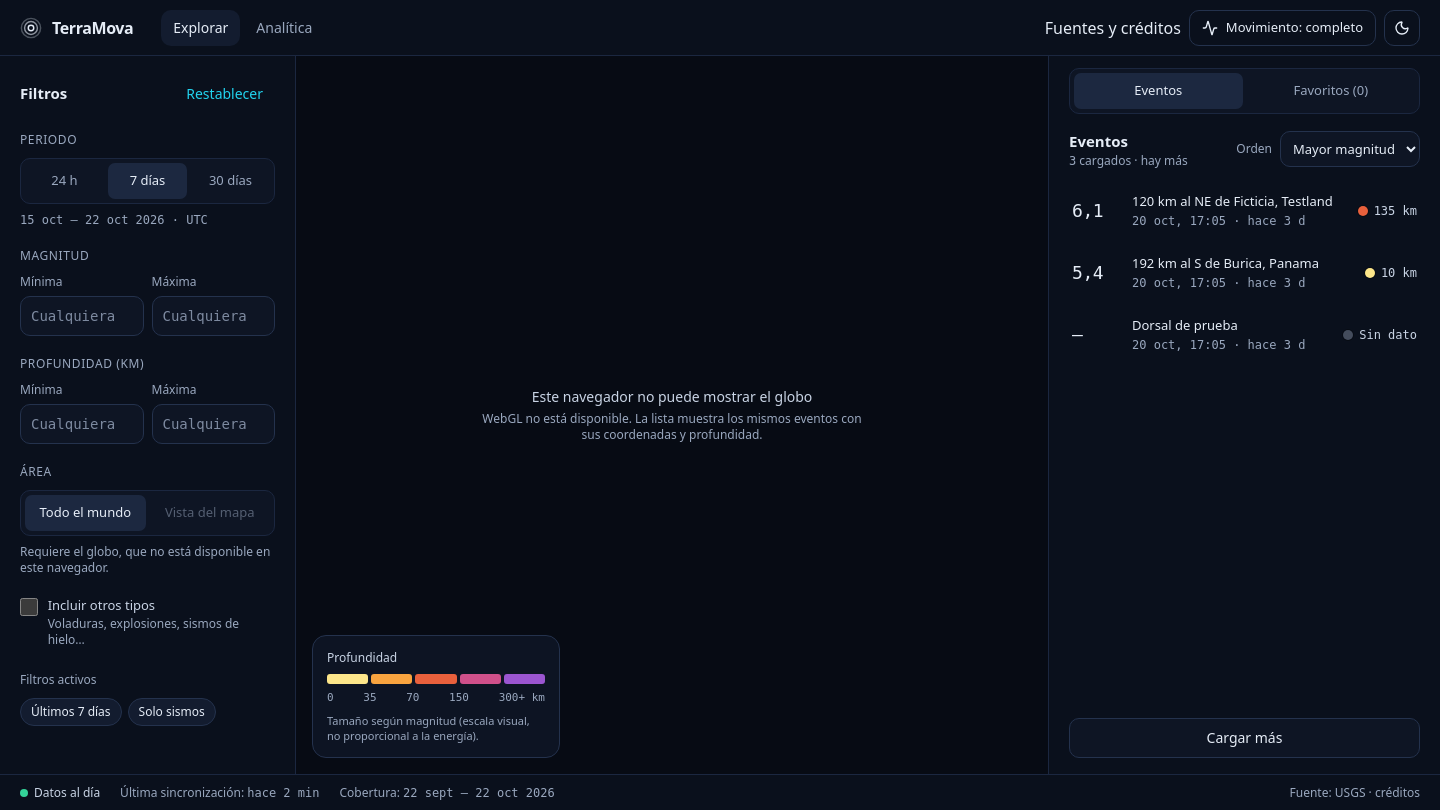
Explorar › los filtros actualizan la URL y la consulta
expect the text "6,1" is shown: met, box [1072,200,1103,220]
Click the button "24 h": [64, 181] box [25,163,104,199]
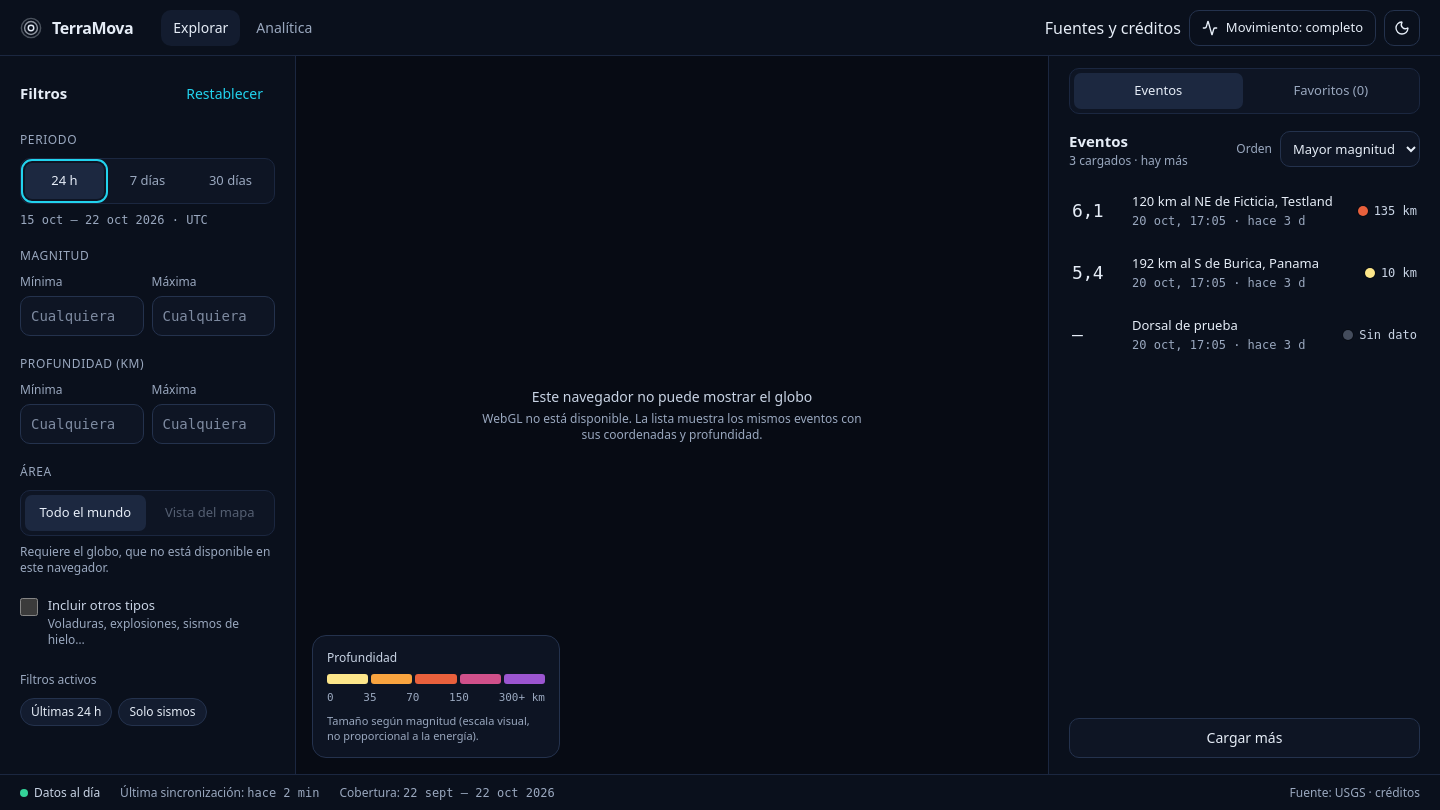
Click the checkbox labelled "Incluir otros tipos Voladuras, explosiones, sismos de hielo…": [29, 607] box [20,598,38,616]
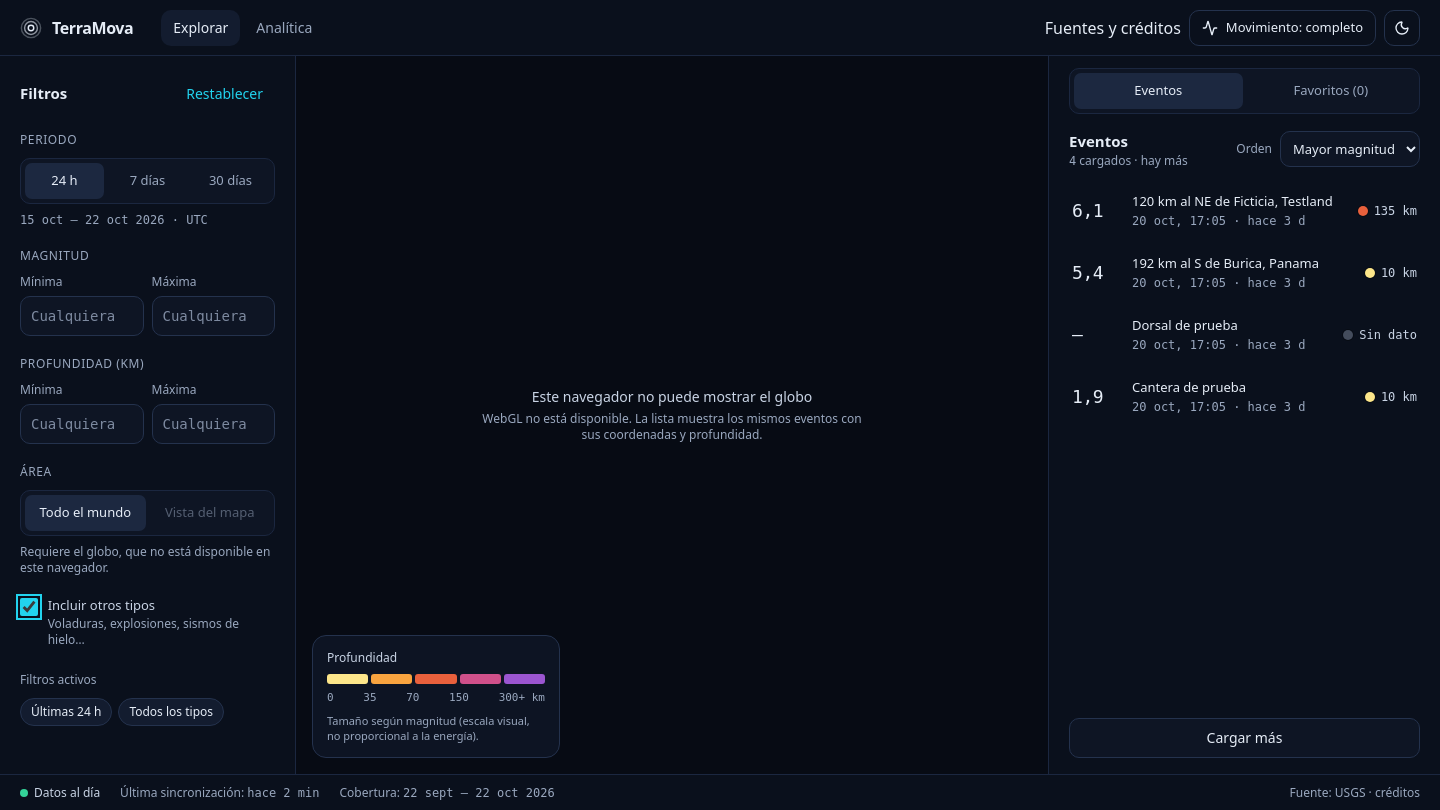
expect the text "Cantera de prueba" is shown: met, box [1132,378,1246,396]
